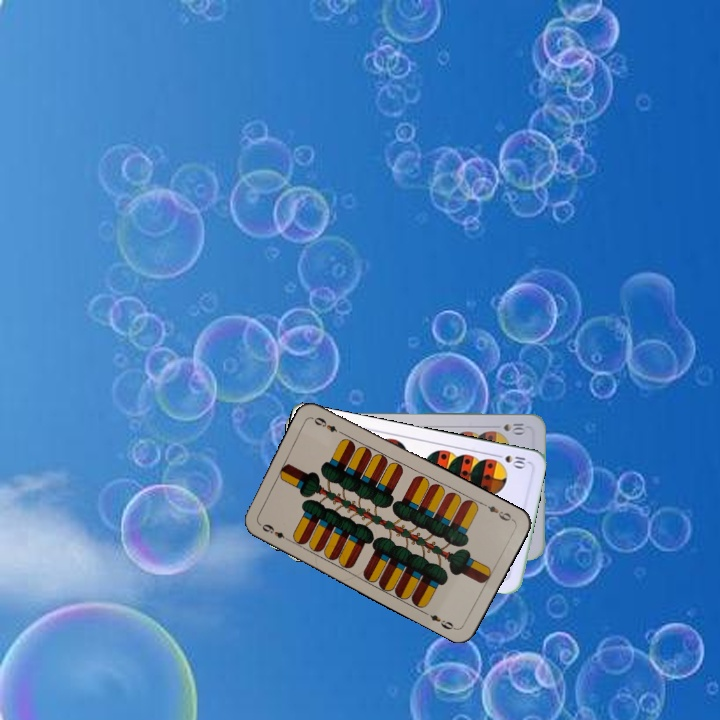E9: (478, 499, 516, 524), (258, 520, 292, 544)
S10: (490, 450, 531, 471), (499, 419, 528, 435)
